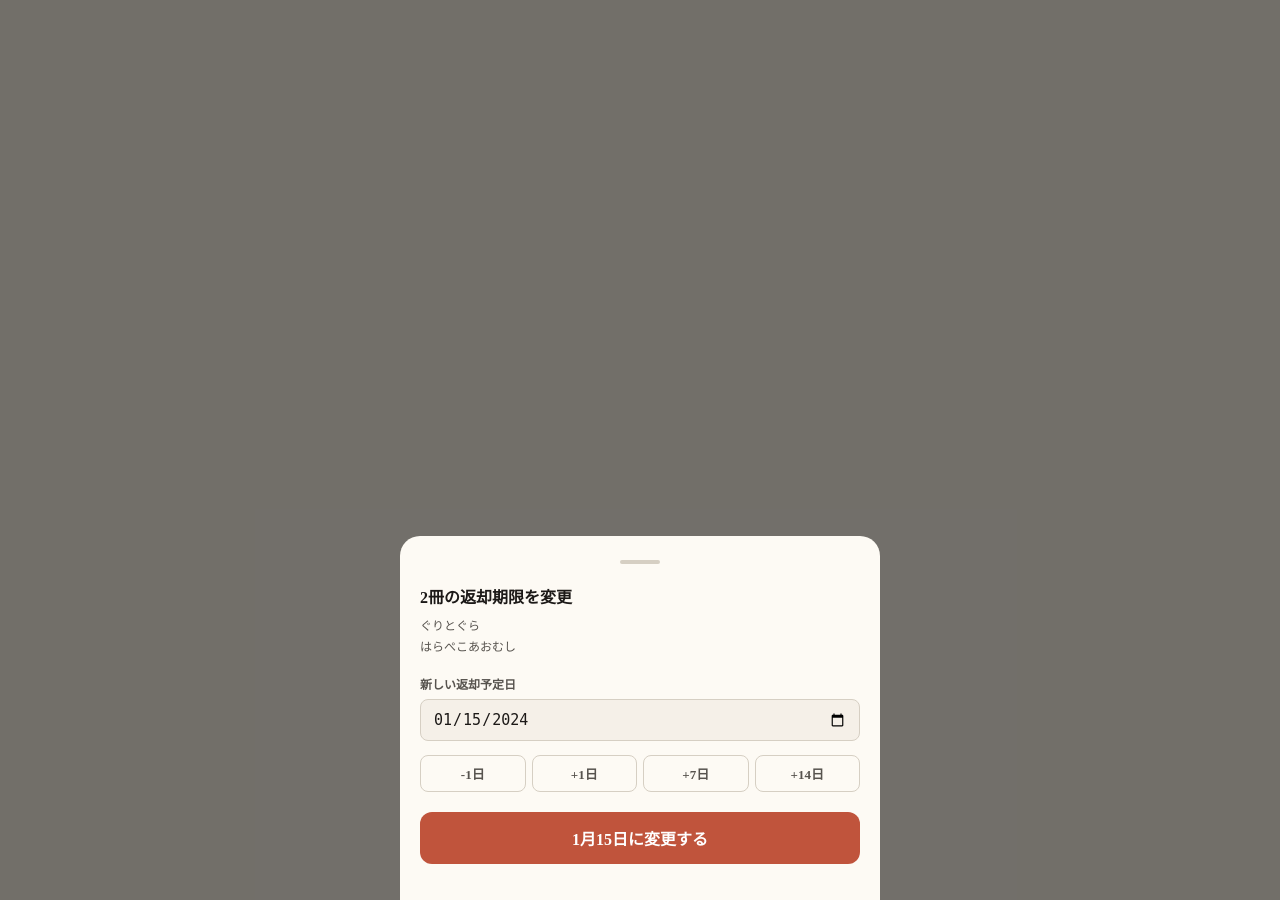
Test case: DueDateSheet › when +14日 is tapped, it should cross the month boundary correctly
The width and height of the screenshot is (1280, 900).
Step 1. Click the button "+14日" → [807, 774], box x1=754 y1=755 x2=860 y2=792
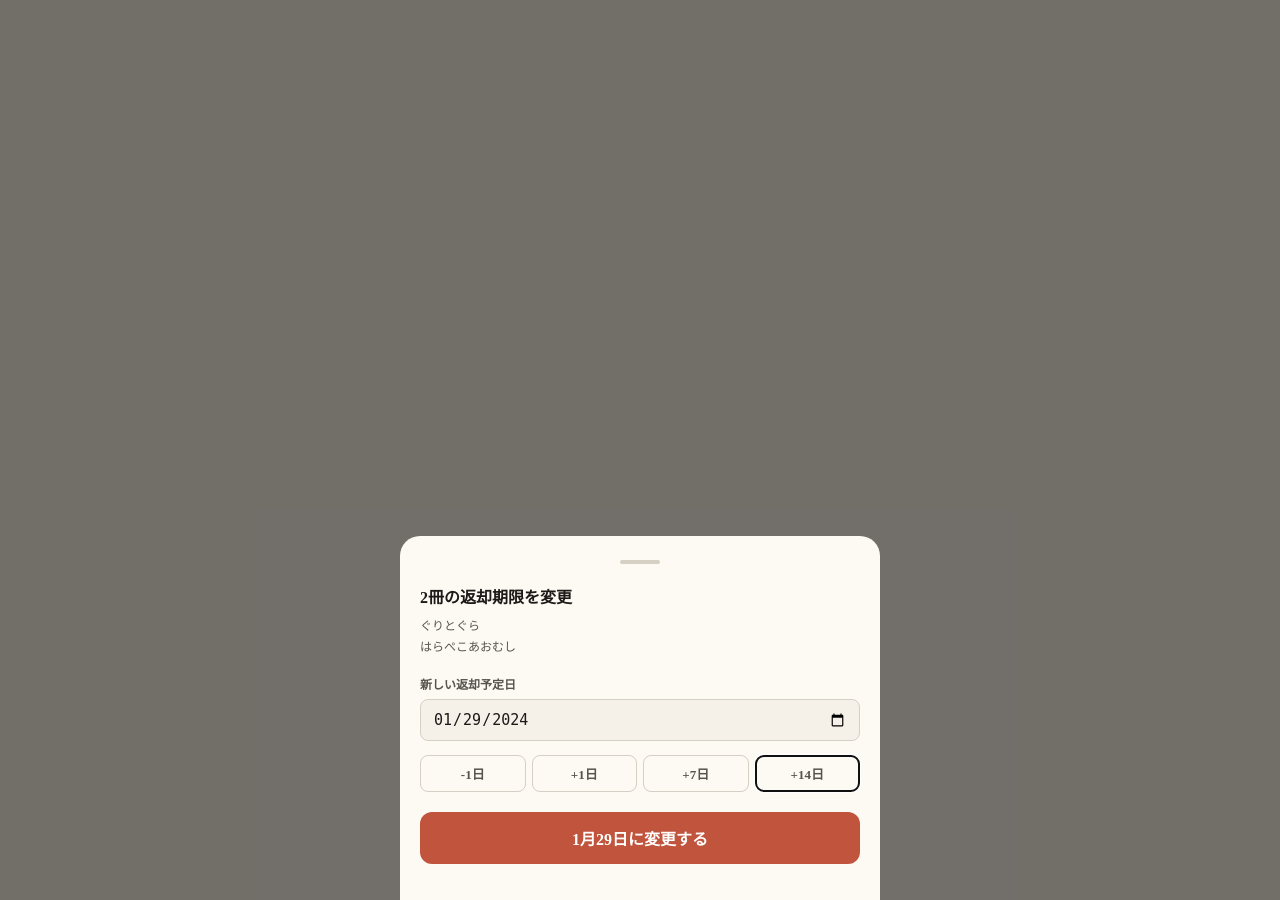
Result: the date field labelled "新しい返却予定日" holds "2024-01-29" at x1=420 y1=699 x2=860 y2=741
